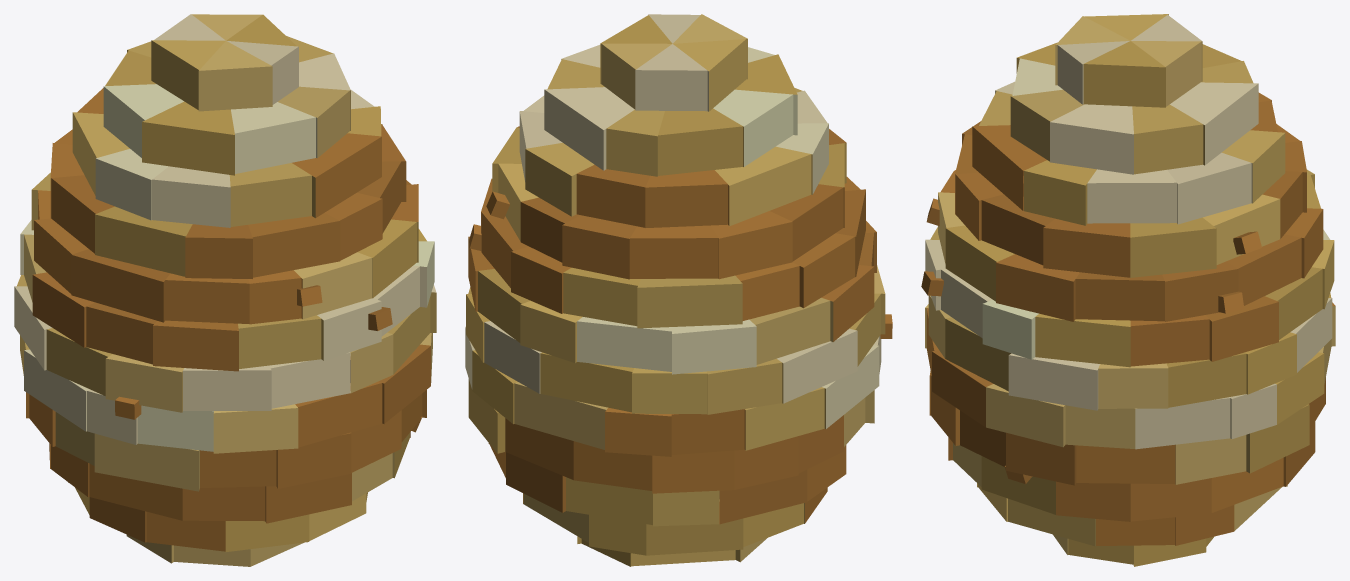
Rendered from sand_egg.glb.
The picture shows the model from 3 angles, left to right: view 1: azimuth 30°, elevation 25°; view 2: azimuth 150°, elevation 25°; view 3: azimuth 270°, elevation 25°; orthographic projection.
Parts seen in each view (by area): view 1: sand_egg; view 2: sand_egg; view 3: sand_egg.
Boxes of the visible parts, x1,y1,x2,y2 form: sand_egg: (14,14,436,566); sand_egg: (465,14,892,566); sand_egg: (921,14,1335,566).
Bounding box in the file's own units: 0.8613 × 1.1 × 0.8537.
